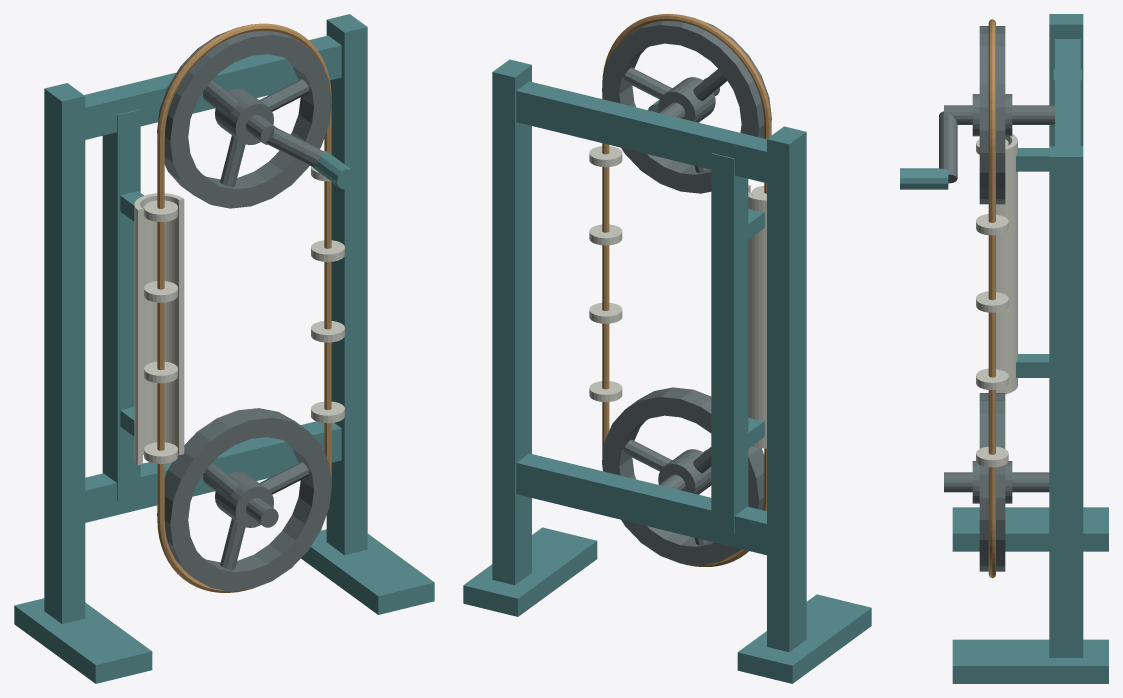
3 views of the same model, side by side, from view 1: azimuth 30°, elevation 25°; view 2: azimuth 150°, elevation 25°; view 3: azimuth 270°, elevation 25° (orthographic). The views are drawn at different scales.
Parts seen in each view (by area): view 1: WholeUprightLeft, WholeUprightRight, WholeOpenPulleyRimLower, WholeRearRiserMountRail, WholeOpenPulleyRimUpper, WholeOpenFrontHalfRoundRiser, WholeEndlessClosedCord, WholeRearCrossRailUpper, WholeGroundSoleLeft, WholeRearCrossRailLower, WholeGroundSoleRight, WholePulleyHubLower (+9 smaller); view 2: WholeUprightLeft, WholeUprightRight, WholeRearRiserMountRail, WholeRearCrossRailUpper, WholeRearCrossRailLower, WholeOpenPulleyRimUpper, WholeOpenPulleyRimLower, WholeGroundSoleLeft, WholeGroundSoleRight, WholeEndlessClosedCord, WholeOpenFrontHalfRoundRiser, WholePulleyHubUpper (+3 smaller); view 3: WholeUprightRight, WholeGroundSoleRight, WholeGroundSoleLeft, WholeOpenFrontHalfRoundRiser, WholeEndlessClosedCord, WholeOpenPulleyRimUpper, WholeOpenPulleyRimLower, WholeRearCrossRailUpper, WholeUprightLeft, WholeThroughAxleLower, WholeThroughAxleUpper, WholeOffsetCrankArm (+9 smaller).
Boxes of the visible parts, box(x1,y1,x2,y2) form: WholeUprightLeft: box(44, 83, 85, 623); WholeUprightRight: box(326, 14, 367, 555); WholeOpenPulleyRimLower: box(157, 408, 331, 591); WholeRearRiserMountRail: box(102, 109, 140, 500); WholeOpenPulleyRimUpper: box(157, 27, 331, 208); WholeOpenFrontHalfRoundRiser: box(134, 193, 184, 465); WholeEndlessClosedCord: box(157, 23, 331, 592); WholeRearCrossRailUpper: box(84, 35, 341, 139); WholeGroundSoleLeft: box(14, 598, 152, 683); WholeRearCrossRailLower: box(85, 421, 341, 522); WholeGroundSoleRight: box(301, 529, 434, 614); WholePulleyHubLower: box(215, 471, 273, 527); WholeUprightLeft: box(767, 126, 806, 651); WholeUprightRight: box(492, 59, 531, 585); WholeRearRiserMountRail: box(711, 153, 748, 533); WholeRearCrossRailUpper: box(516, 81, 766, 183); WholeRearCrossRailLower: box(516, 453, 766, 555); WholeOpenPulleyRimUpper: box(602, 17, 771, 193); WholeOpenPulleyRimLower: box(602, 387, 764, 565); WholeGroundSoleLeft: box(737, 594, 871, 683); WholeGroundSoleRight: box(463, 527, 597, 616); WholeEndlessClosedCord: box(602, 14, 771, 566); WholeOpenFrontHalfRoundRiser: box(748, 185, 766, 448); WholePulleyHubUpper: box(658, 77, 715, 122); WholeUprightRight: box(1049, 146, 1083, 657); WholeGroundSoleRight: box(952, 639, 1108, 683); WholeGroundSoleLeft: box(952, 507, 1108, 551); WholeOpenFrontHalfRoundRiser: box(996, 134, 1017, 394); WholeEndlessClosedCord: box(988, 19, 995, 578); WholeOpenPulleyRimUpper: box(979, 26, 1005, 204); WholeOpenPulleyRimLower: box(979, 393, 1005, 571); WholeRearCrossRailUpper: box(1055, 39, 1080, 146); WholeUprightLeft: box(1049, 14, 1083, 146); WholeThroughAxleLower: box(944, 472, 1049, 492); WholeThroughAxleUpper: box(944, 105, 1054, 124); WholeOffsetCrankArm: box(939, 111, 957, 183).
Size of the model in its own units: 2.64 by 4.48 by 1.47.
